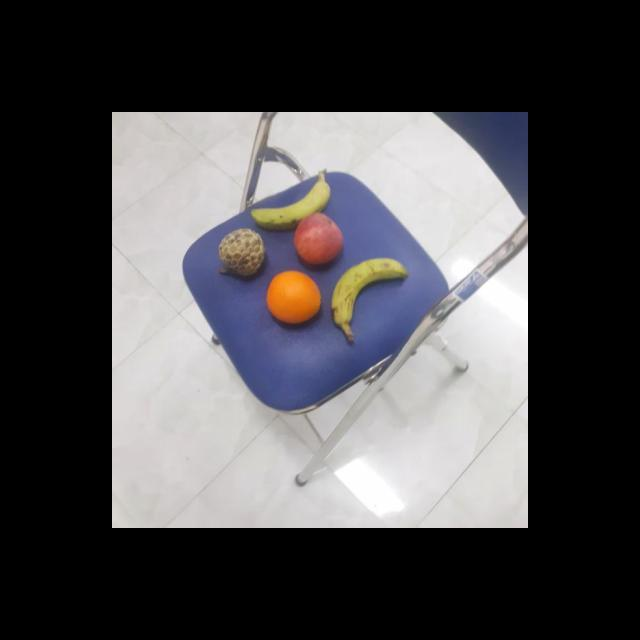Sakya fruit: (218, 225, 268, 277)
apple: (291, 213, 346, 268)
banana: (328, 257, 408, 325), (244, 175, 334, 228)
orange: (264, 269, 325, 326)
